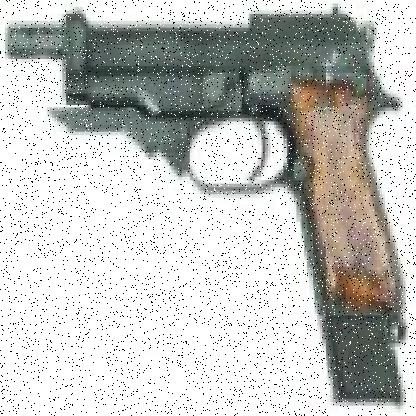pistol: (5, 7, 405, 413)
